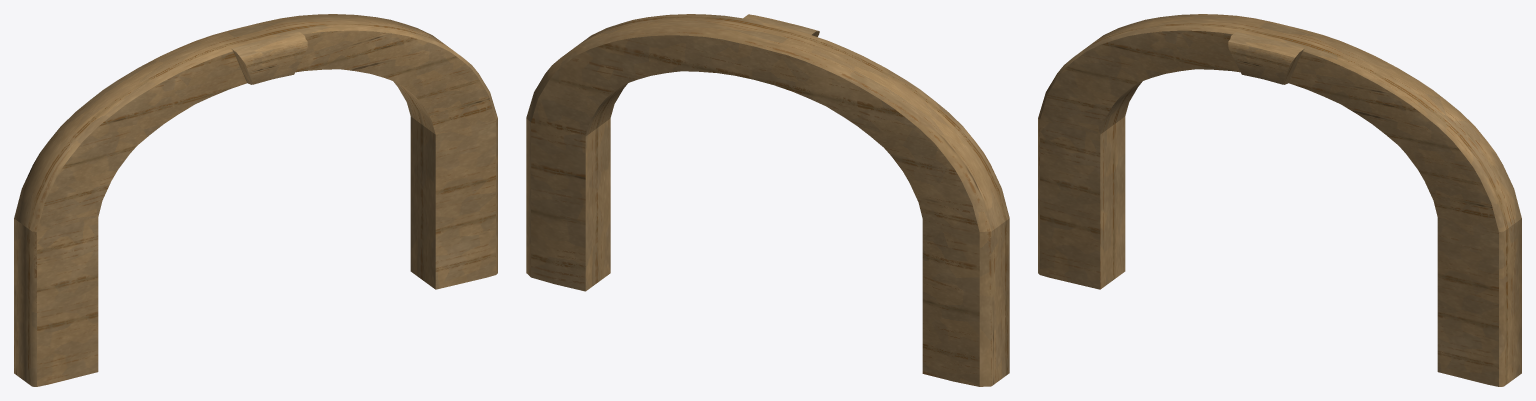
The model's file is 유교수님3.fbx.
3 views of the same model, side by side, from view 1: azimuth 30°, elevation 25°; view 2: azimuth 150°, elevation 25°; view 3: azimuth 330°, elevation 25° (orthographic).
Visible parts, largest first — view 1: Box008; view 2: Box008; view 3: Box008.
Part boxes in pixels (box(x1,y1,x2,y2)): Box008: box(14, 14, 497, 386); Box008: box(526, 14, 1009, 386); Box008: box(1038, 14, 1521, 386).
Size of the model in its own units: 697 by 416 by 89.27.
